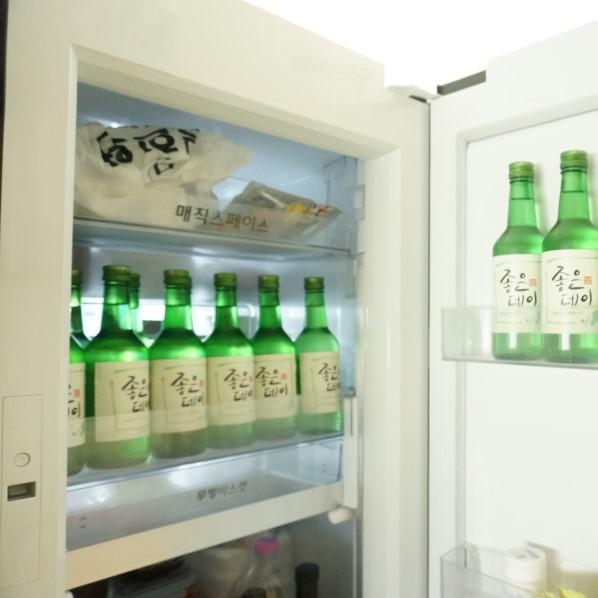soju: (66, 267, 346, 476), (482, 146, 596, 365)
